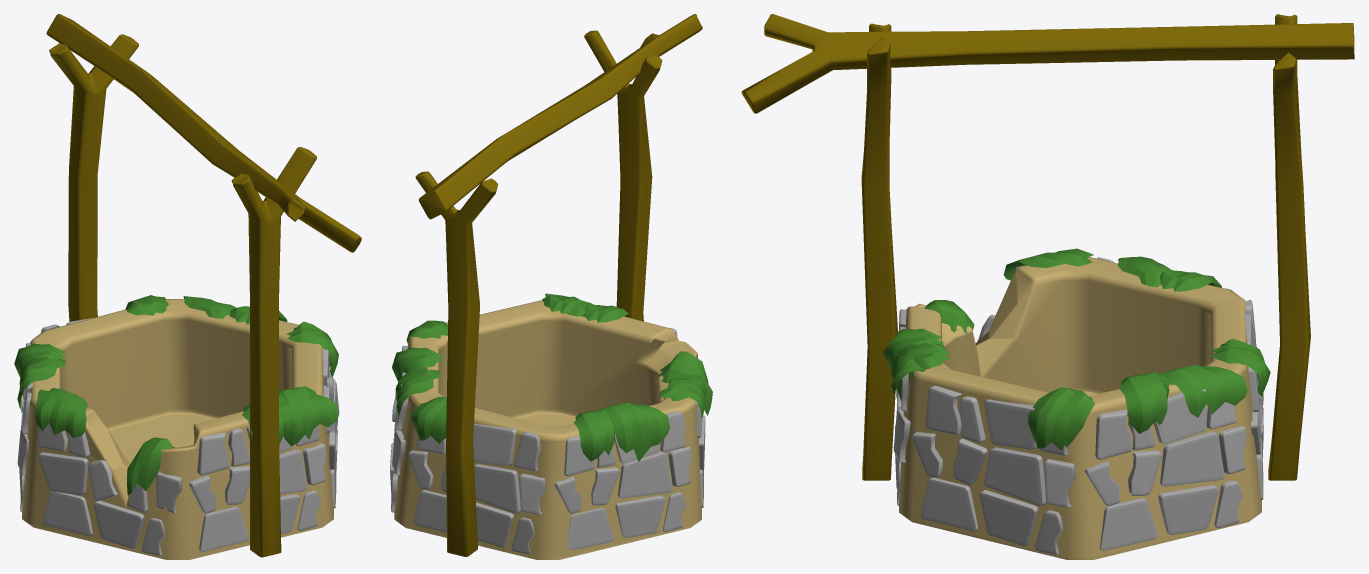
The model's file is MSH_Static_Well.fbx.
The picture shows the model from 3 angles, left to right: view 1: azimuth 30°, elevation 25°; view 2: azimuth 150°, elevation 25°; view 3: azimuth 270°, elevation 25°; orthographic projection. The views are drawn at different scales.
Parts seen in each view (by area): view 1: wellDestroyed, Stand_stick, Stand_stick2, Stand_stick1, Moss10, pCube8, pCube13, pCube4, pCube14, Moss9, Moss13, polySurface3 (+17 smaller); view 2: wellDestroyed, Stand_stick1, Stand_stick, Stand_stick2, Moss7, pCube7, pCube18, pCube9, pCube16, Moss8, pCube11, Moss5 (+20 smaller); view 3: wellDestroyed, Stand_stick2, Stand_stick1, Stand_stick, Moss15, pCube19, Moss2, pCube23, pCube20, pCube24, pCube22, pCube26 (+21 smaller).
Boxes of the visible parts, x1,y1,x2,y2 form: wellDestroyed: (22,299,333,559); Stand_stick: (231,147,316,557); Stand_stick2: (46,14,361,252); Stand_stick1: (49,34,138,321); Moss10: (35,388,87,437); pCube8: (38,452,88,495); pCube13: (93,500,144,548); pCube4: (199,506,248,551); pCube14: (43,491,92,535); Moss9: (127,437,173,494); Moss13: (279,394,339,433); polySurface3: (197,432,229,475); wellDestroyed: (394,300,701,559); Stand_stick1: (415,171,497,556); Stand_stick: (584,30,662,321); Stand_stick2: (418,14,702,219); Moss7: (595,402,669,461); pCube7: (618,451,672,498); pCube18: (474,464,520,513); pCube9: (615,495,665,537); pCube16: (473,423,516,466); Moss8: (573,409,614,461); pCube11: (567,507,613,550); Moss5: (411,396,446,443); wellDestroyed: (899,257,1261,559); Stand_stick2: (741,14,1354,113); Stand_stick1: (1268,14,1310,480); Stand_stick: (861,23,897,480); Moss15: (1028,387,1094,450); pCube19: (1160,431,1224,486); Moss2: (1159,365,1247,417); pCube23: (984,447,1046,506); pCube20: (1158,484,1218,534); pCube24: (979,490,1038,545); pCube22: (1100,498,1157,550); pCube26: (921,477,978,531).
Bounding box in the file's own units: 11.42 × 14.22 × 17.28.
